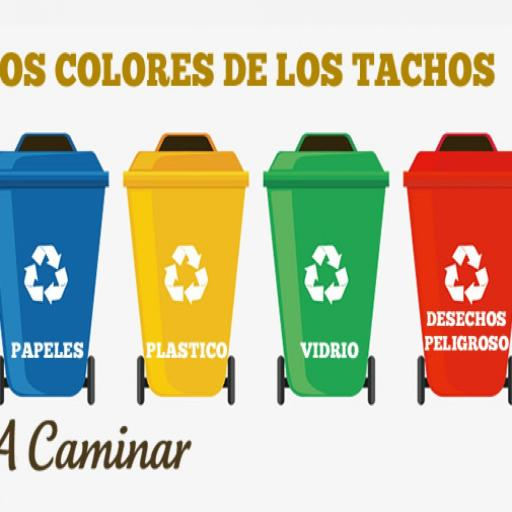Contenedor_Vacio: (263, 134, 390, 402), (123, 134, 249, 403), (403, 134, 512, 399), (0, 134, 109, 395)
